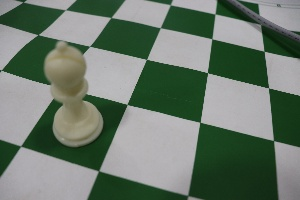white_bishop: (35, 32, 105, 153)
